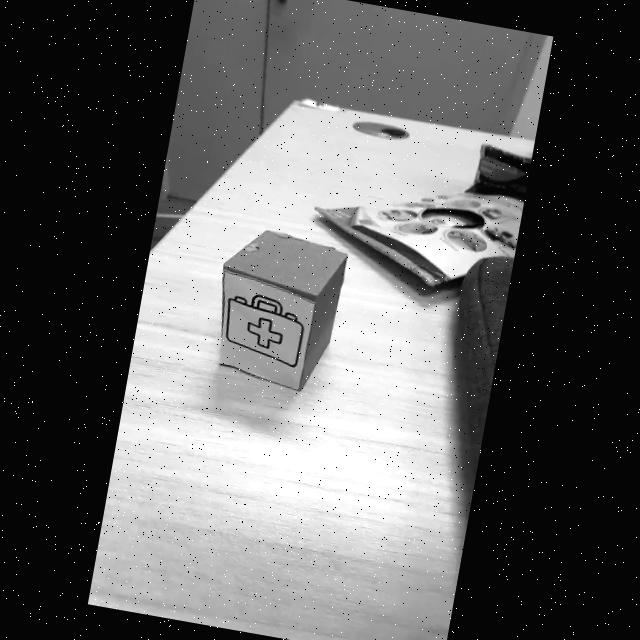Medkit: (225, 296, 303, 365)
